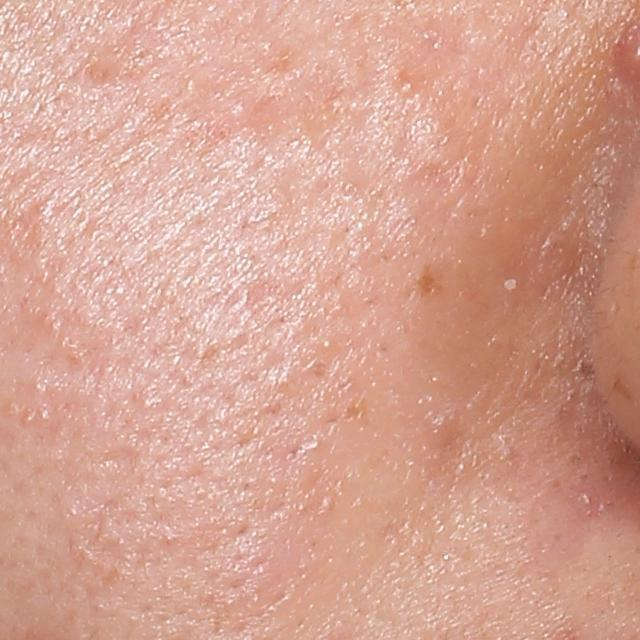comedo: (393, 72, 426, 100)
